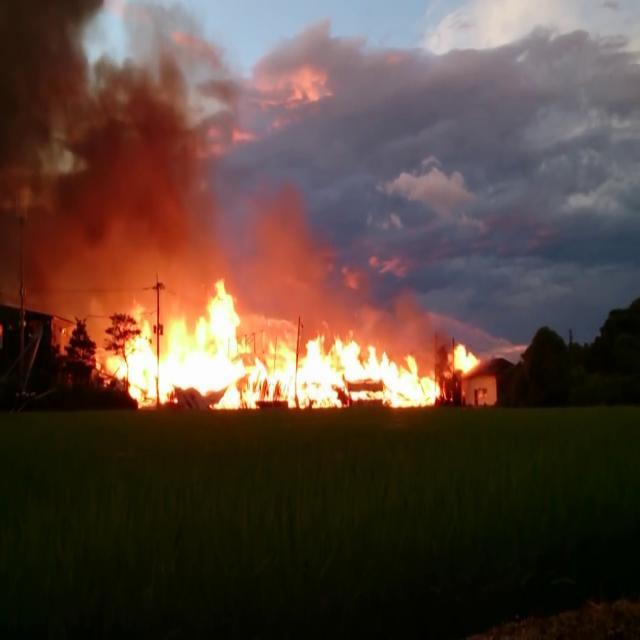Fire: (97, 276, 445, 406), (448, 338, 478, 376)
